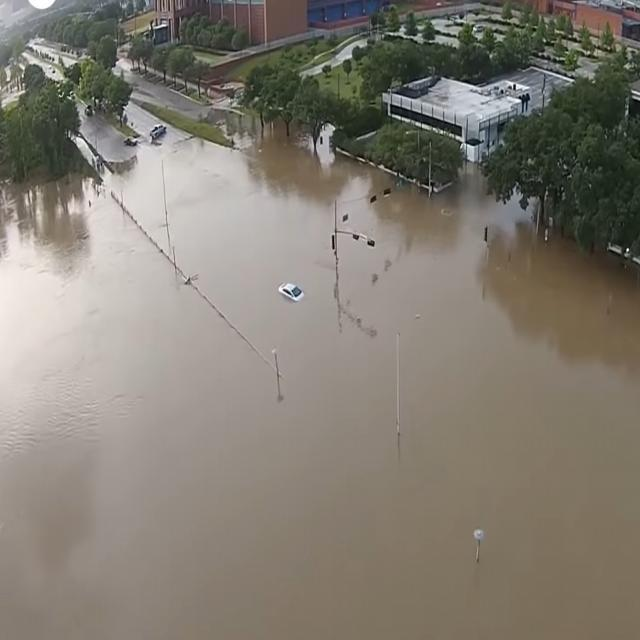flood: (0, 129, 640, 640)
house: (395, 71, 526, 173), (174, 0, 310, 48), (538, 1, 640, 57)
